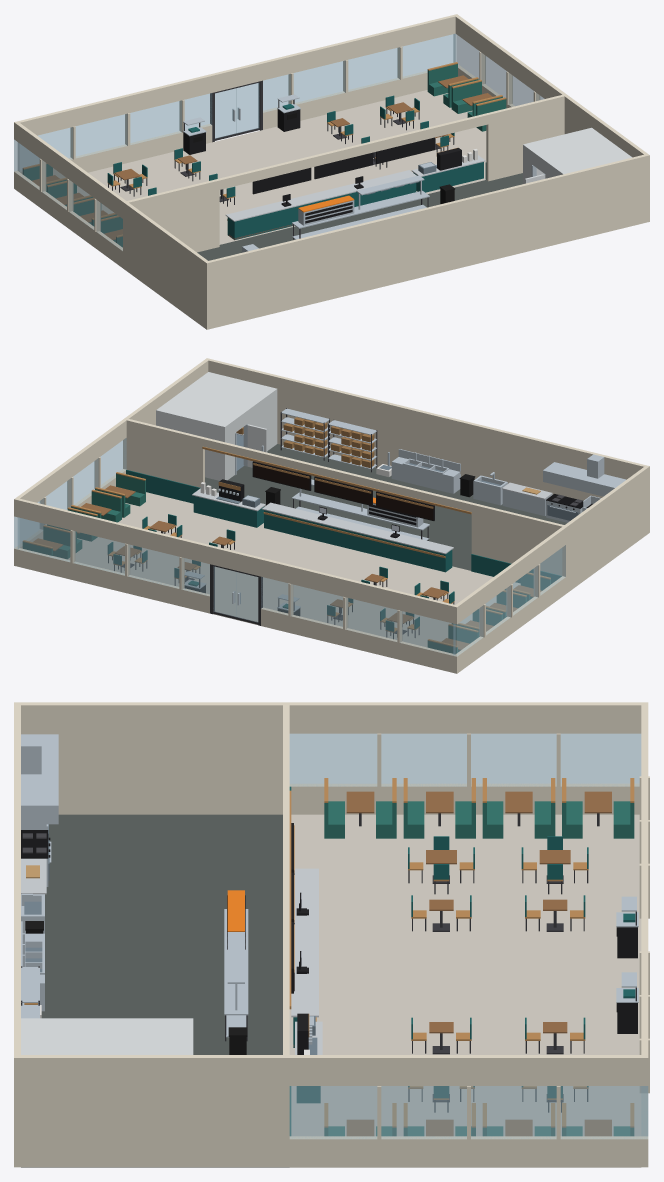
The model's file is restaurant.obj.
3 renders of one model, top to bottom at view 1: azimuth 30°, elevation 25°; view 2: azimuth 150°, elevation 25°; view 3: azimuth 270°, elevation 25°, orthographic. The views are drawn at different scales.
Parts seen in each view (by area): view 1: Wall_Back, Wall_Front_Windows, Floor_Lobby, Wall_Lobby_Left_Windows, Wall_Kitchen_Left, Wall_Lobby_Right_Windows, Partition_Right, Partition_Left, Front_Counter, Walk_In_Freezer, Counter_Header, Floor_Kitchen (+21 smaller); view 2: Wall_Front_Windows, Floor_Lobby, Wall_Back, Wall_Lobby_Left_Windows, Walk_In_Freezer, Floor_Kitchen, Wall_Kitchen_Left, Wall_Lobby_Right_Windows, Front_Counter, Partition_Right, Partition_Left, Counter_Header (+27 smaller); view 3: Floor_Lobby, Floor_Kitchen, Wall_Lobby_Right_Windows, Wall_Lobby_Left_Windows, Wall_Kitchen_Right, Wall_Kitchen_Left, Walk_In_Freezer, Wall_Front_Windows, Front_Counter, Range_Hood, Wall_Back, Booth_2 (+26 smaller).
Part boxes in pixels (box(x1,y1,x2,y2)): Wall_Back: box(204, 154, 649, 329); Wall_Front_Windows: box(18, 15, 455, 178); Floor_Lobby: box(77, 90, 486, 244); Wall_Lobby_Left_Windows: box(14, 121, 125, 267); Wall_Kitchen_Left: box(123, 201, 207, 327); Wall_Lobby_Right_Windows: box(453, 14, 565, 108); Partition_Right: box(485, 95, 564, 181); Partition_Left: box(127, 179, 219, 252); Front_Counter: box(225, 170, 416, 240); Walk_In_Freezer: box(523, 127, 632, 183); Counter_Header: box(218, 113, 488, 189); Floor_Kitchen: box(197, 173, 522, 260); Wall_Front_Windows: box(17, 498, 455, 672); Floor_Lobby: box(68, 492, 520, 646); Wall_Back: box(205, 358, 649, 533); Wall_Lobby_Left_Windows: box(453, 526, 565, 673); Walk_In_Freezer: box(156, 372, 277, 480); Floor_Kitchen: box(205, 444, 567, 570); Wall_Kitchen_Left: box(562, 467, 647, 593); Wall_Lobby_Right_Windows: box(14, 419, 126, 566); Front_Counter: box(262, 502, 453, 572); Partition_Right: box(126, 419, 204, 503); Partition_Left: box(471, 503, 564, 583); Counter_Header: box(202, 437, 473, 514); Floor_Lobby: box(289, 814, 641, 1167); Floor_Kitchen: box(21, 814, 289, 1167); Wall_Lobby_Right_Windows: box(289, 1055, 648, 1167); Wall_Lobby_Left_Windows: box(289, 702, 648, 814); Wall_Kitchen_Right: box(21, 1055, 289, 1167); Wall_Kitchen_Left: box(21, 702, 289, 814); Walk_In_Freezer: box(21, 1018, 193, 1054); Wall_Front_Windows: box(639, 705, 649, 1135); Front_Counter: box(291, 868, 318, 1047); Range_Hood: box(21, 734, 58, 824); Wall_Back: box(14, 702, 20, 1167); Booth_2: box(482, 778, 555, 838).
Size of the model in its own units: 24.5 by 3.6 by 18.45.
